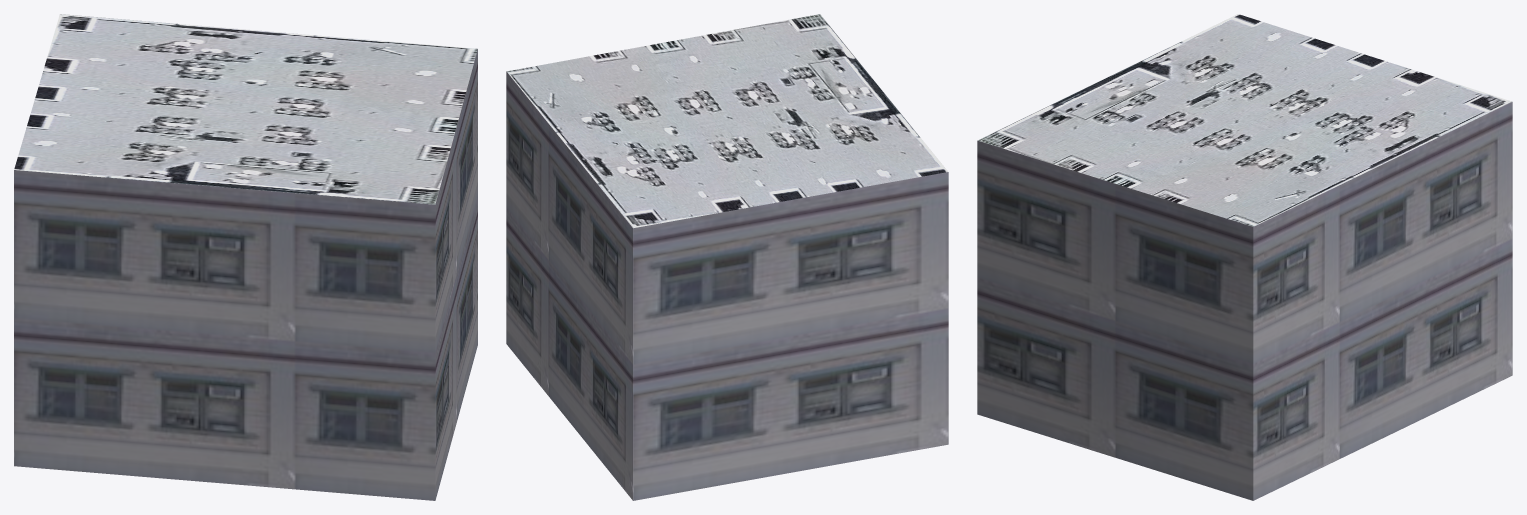
Rendered from ResTex__1305.fbx.
3 views of the same model, side by side, from view 1: azimuth 30°, elevation 25°; view 2: azimuth 150°, elevation 25°; view 3: azimuth 270°, elevation 25° (orthographic). The views are drawn at different scales.
Parts seen in each view (by area): view 1: CityEngineMaterial_1_m, CityEngineMaterial_4_m; view 2: CityEngineMaterial_1_m, CityEngineMaterial_4_m; view 3: CityEngineMaterial_1_m, CityEngineMaterial_4_m.
Part boxes in pixels (box(x1,y1,x2,y2)): CityEngineMaterial_1_m: box(14, 49, 477, 500); CityEngineMaterial_4_m: box(14, 14, 477, 204); CityEngineMaterial_1_m: box(506, 71, 948, 500); CityEngineMaterial_4_m: box(506, 14, 947, 228); CityEngineMaterial_1_m: box(977, 102, 1512, 500); CityEngineMaterial_4_m: box(978, 14, 1511, 226).
Bounding box in the file's own units: 10 × 6 × 10.62.
Materials: 2 (2 with a texture image).
